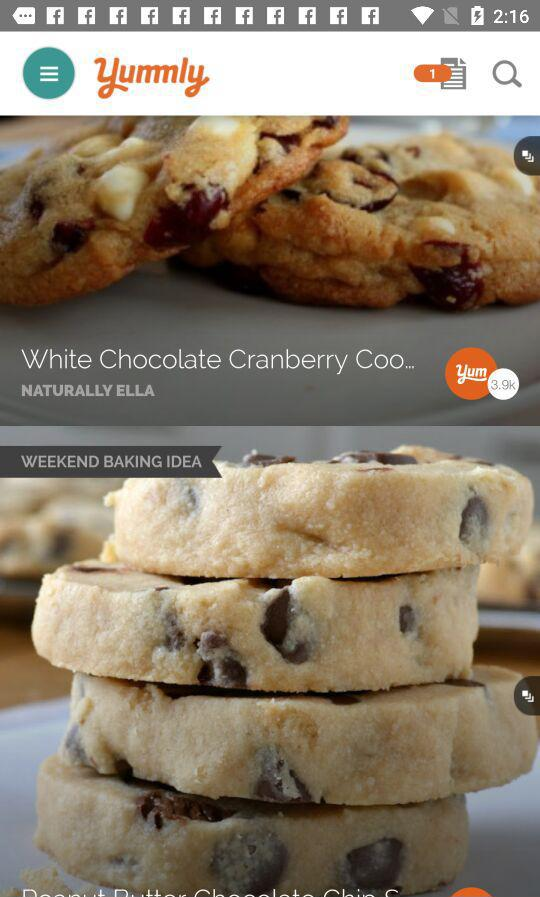Icon: (22, 48, 76, 100), (413, 57, 468, 91), (492, 59, 524, 89)
Image: (1, 427, 540, 897), (1, 116, 540, 427), (92, 57, 211, 101)
Text: (21, 348, 414, 376), (21, 382, 157, 398)
Toolbar: (1, 33, 540, 115)
UpperTaskBar: (1, 1, 540, 33)
